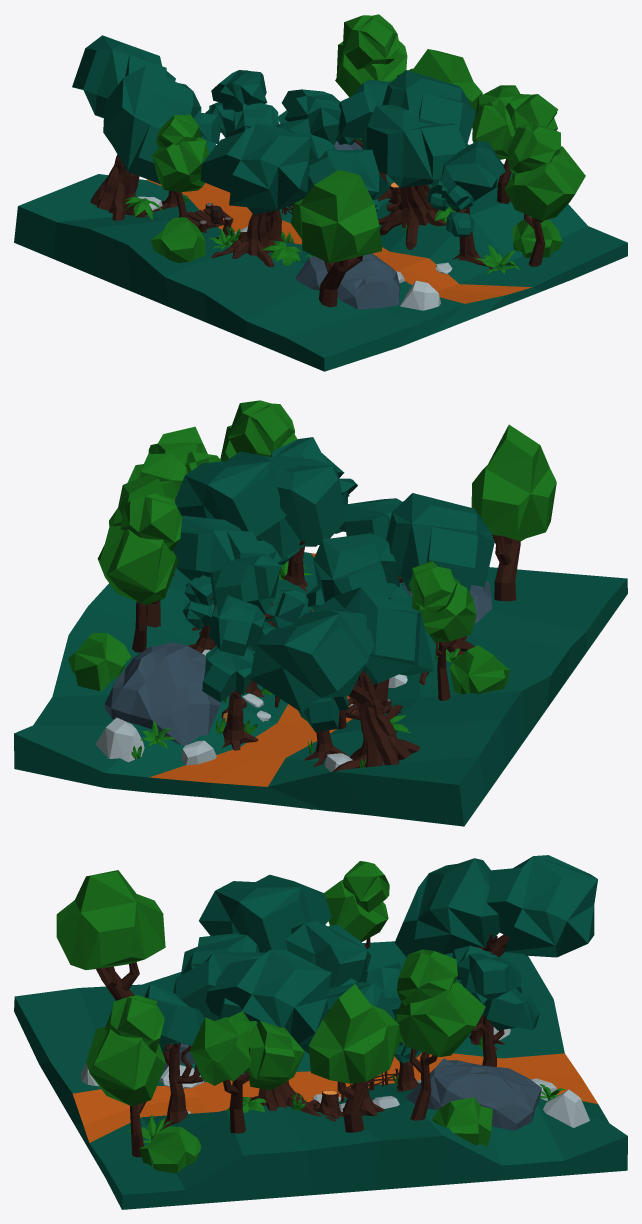
File: forest_scenery.obj
3 views of the same model, one above another, from view 1: azimuth 30°, elevation 25°; view 2: azimuth 150°, elevation 25°; view 3: azimuth 270°, elevation 25° (orthographic). The views are drawn at different scales.
Parts seen in each view (by area): view 1: group2009401224, group1489245576, group403363102, group547813215, group313951583, group1634341855, group2035836735, group1573540807, group506122935, group624080166, group443772894, group561706230 (+22 smaller); view 2: group2009401224, group624080166, group403363102, group1922369548, group2035836735, group1489245576, group443772894, group547813215, group1634341855, group506122935, group1180255365, group1890178627 (+24 smaller); view 3: group2009401224, group624080166, group403363102, group2035836735, group443772894, group1045676722, group1573540807, group547813215, group313951583, group1489245576, group1922369548, group506122935 (+15 smaller).
Part boxes in pixels (left/top/right/bottom): group2009401224: left=14, top=110, right=627, bottom=371; group1489245576: left=200, top=123, right=310, bottom=214; group403363102: left=291, top=170, right=381, bottom=307; group547813215: left=103, top=65, right=201, bottom=184; group313951583: left=504, top=122, right=585, bottom=266; group1634341855: left=367, top=105, right=465, bottom=187; group2035836735: left=335, top=14, right=407, bottom=96; group1573540807: left=472, top=85, right=557, bottom=203; group506122935: left=152, top=114, right=208, bottom=217; group624080166: left=72, top=35, right=175, bottom=118; group443772894: left=382, top=70, right=476, bottom=146; group561706230: left=295, top=253, right=400, bottom=309; group2009401224: left=14, top=552, right=627, bottom=826; group624080166: left=250, top=610, right=374, bottom=712; group403363102: left=471, top=424, right=556, bottom=601; group1922369548: left=104, top=642, right=221, bottom=745; group2035836735: left=97, top=493, right=181, bottom=652; group1489245576: left=386, top=493, right=494, bottom=592; group443772894: left=175, top=451, right=298, bottom=540; group547813215: left=310, top=587, right=435, bottom=684; group1634341855: left=260, top=455, right=345, bottom=557; group506122935: left=409, top=560, right=476, bottom=700; group1180255365: left=313, top=533, right=399, bottom=602; group1890178627: left=173, top=515, right=265, bottom=580; group2009401224: left=14, top=941, right=627, bottom=1209; group624080166: left=486, top=855, right=597, bottom=957; group403363102: left=56, top=870, right=165, bottom=1000; group2035836735: left=394, top=949, right=485, bottom=1120; group443772894: left=205, top=949, right=331, bottom=1045; group1045676722: left=308, top=984, right=400, bottom=1132; group1573540807: left=189, top=1011, right=304, bottom=1133; group547813215: left=394, top=858, right=500, bottom=957; group313951583: left=86, top=995, right=165, bottom=1157; group1489245576: left=199, top=874, right=331, bottom=952; group1922369548: left=406, top=1058, right=541, bottom=1130; group506122935: left=324, top=861, right=389, bottom=948.
Size of the model in its own units: 1.4 by 0.581 by 1.52.
